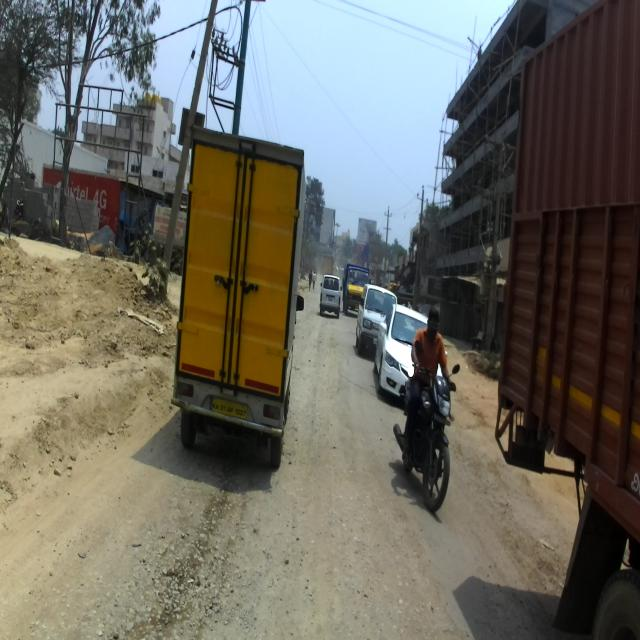motorcycle ahead at: (400, 366, 458, 518)
truck ahead at: (509, 0, 640, 640), (178, 119, 308, 476)
